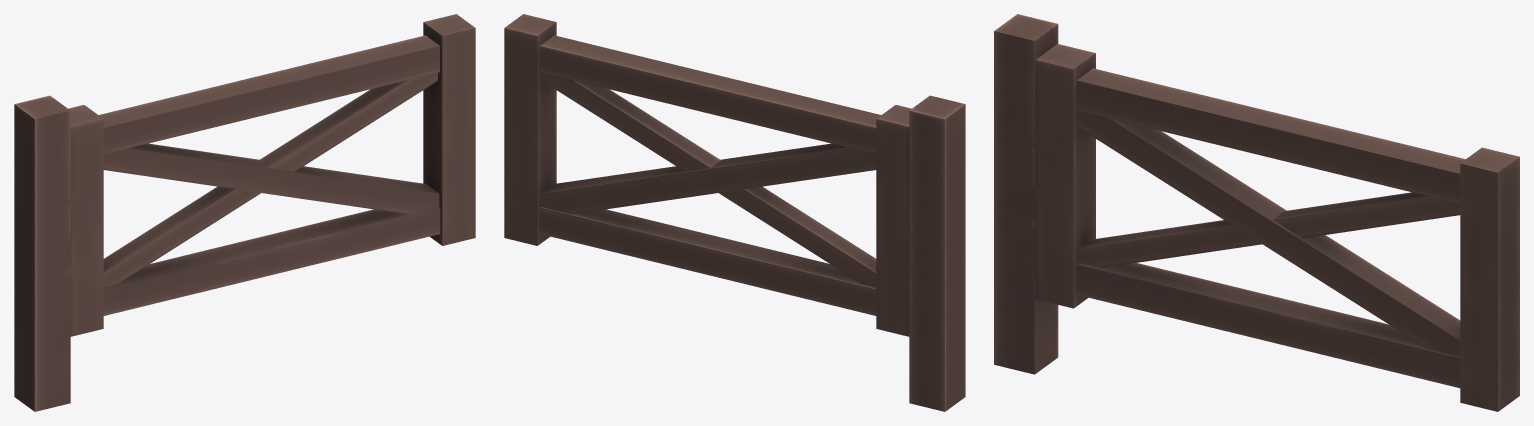
The model's file is Fence_14_(Animated).FBX.
3 views of the same model, side by side, from view 1: azimuth 30°, elevation 25°; view 2: azimuth 150°, elevation 25°; view 3: azimuth 330°, elevation 25° (orthographic). The views are drawn at different scales.
Parts seen in each view (by area): view 1: Fence_14, Fence_11; view 2: Fence_14, Fence_11; view 3: Fence_14, Fence_11.
Part boxes in pixels (x1,y1,x2,y2): Fence_14: (68,14,475,336); Fence_11: (14,95,70,411); Fence_14: (504,14,911,336); Fence_11: (909,95,965,411); Fence_14: (1035,44,1519,411); Fence_11: (994,14,1058,374).
Size of the model in its own units: 62.64 by 39.69 by 5.06.
